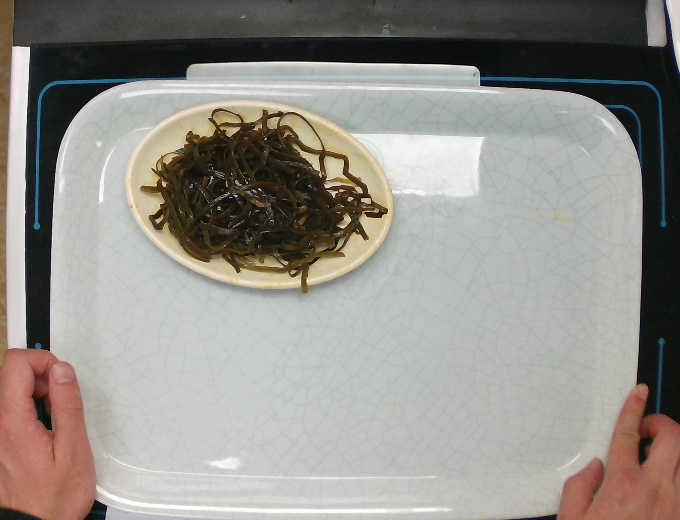JYsf-Tuo_Yuan_Wan: (121, 100, 395, 296)
